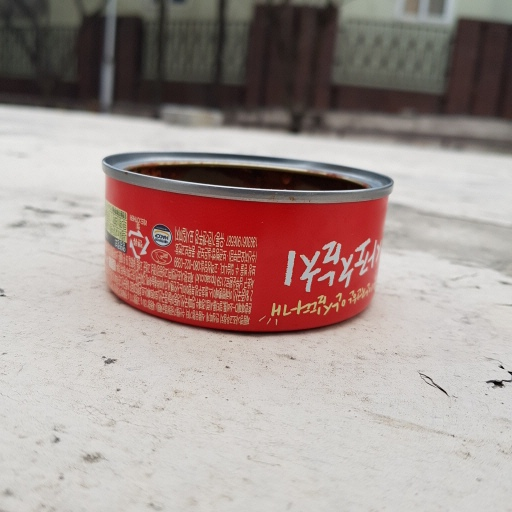Metal_1: (98, 145, 397, 335)
